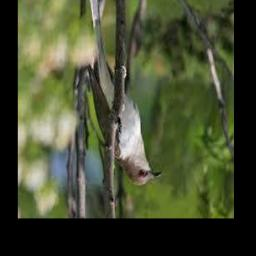Cuckoo: (86, 0, 162, 186)
